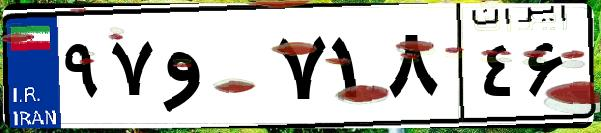1: (330, 28, 385, 110)
4: (475, 38, 525, 113)
6: (525, 38, 570, 115)
7: (270, 28, 330, 110), (110, 28, 158, 98)
8: (385, 28, 445, 110)
9: (57, 26, 110, 100)
و: (158, 20, 270, 120)
